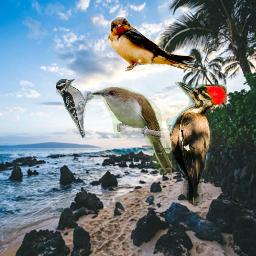Cuckoo: (90, 87, 172, 175)
Swallow: (107, 16, 207, 77)
Woodpecker: (164, 82, 227, 206), (56, 79, 94, 138)
